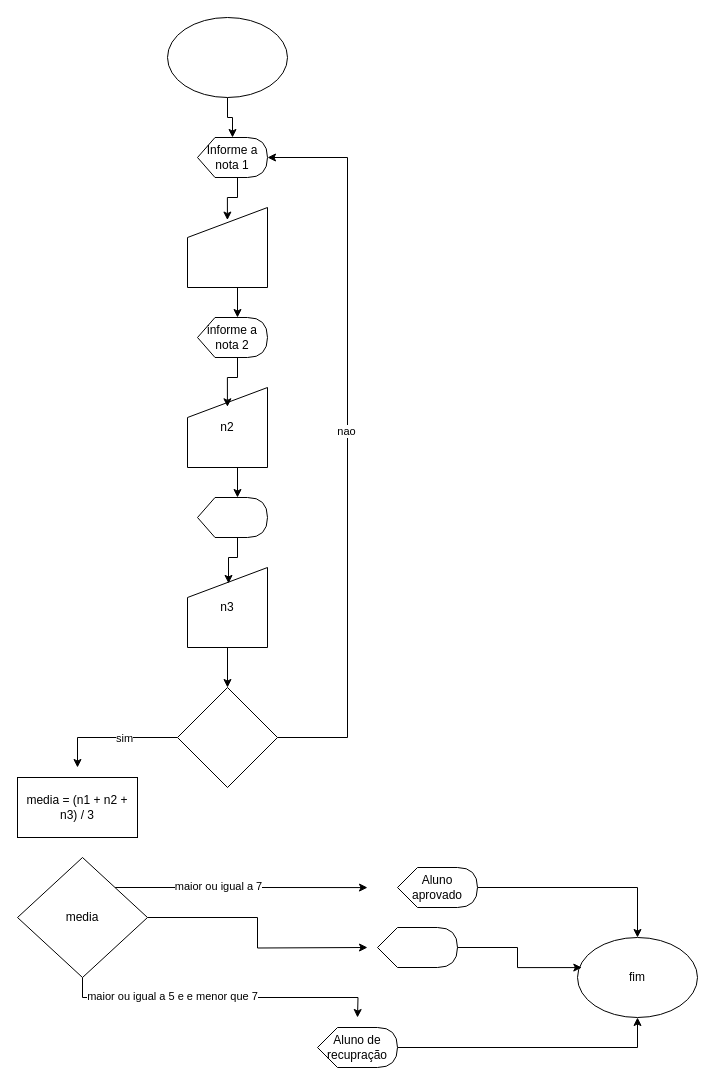
Some shapes in this 715 by 1085 pixel diagram are drawn without their labels. Here are the shapes that lost their labels. From the top down, the box of each, then its label:
(166, 16, 288, 98): inicio
(186, 206, 268, 288): n1
(196, 496, 268, 538): informe a nota 3
(176, 686, 278, 788): as notas sao valores numéricos?
(376, 926, 458, 968): Aluno reprovado
